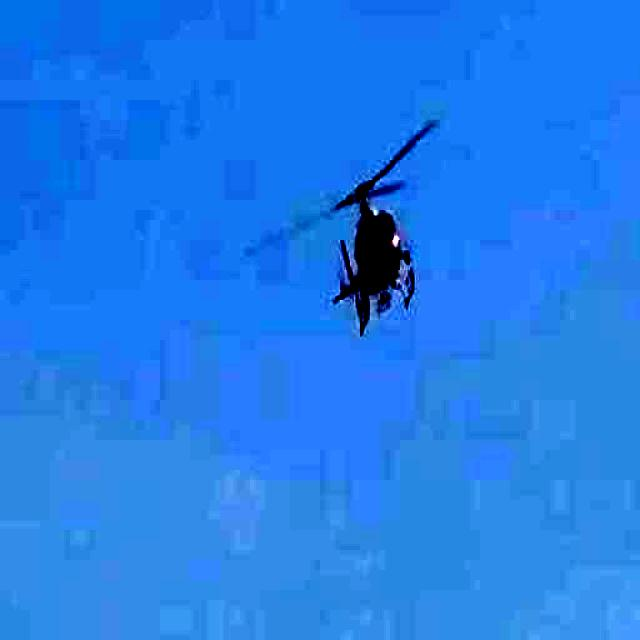drone: (235, 100, 501, 348)
